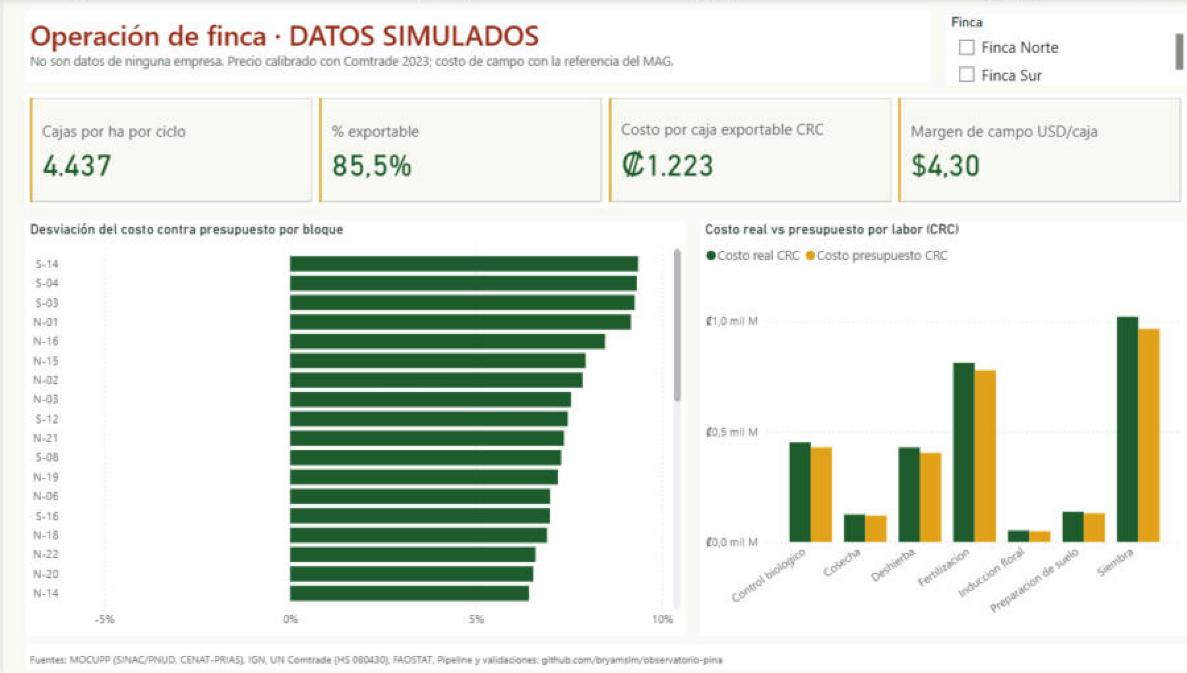

The page's visual inventory and layout, read from the dashboard file:
{"tool":"powerbi","page":{"name":"5 · Operación (simulada)","canvas":[1280,720],"ordinal":4},"visuals":[{"type":"textbox","box":[24,12,960,76],"z":1000},{"type":"slicer","title":"Finca","fields":{"Values":["Bloque.finca"]},"box":[1000,16,256,76],"z":2000},{"type":"cardVisual","fields":{"Data":["Medidas.Cajas por ha por ciclo","Medidas.% exportable","Medidas.Costo por caja exportable CRC","Medidas.Margen de campo USD/caja"]},"box":[24,100,1232,120],"z":3000},{"type":"clusteredBarChart","title":"Desviación del costo contra presupuesto por bloque","fields":{"Category":["Bloque.cod_bloque"],"Y":["Medidas.Desviación vs presupuesto %"]},"box":[24,236,700,440],"z":4000},{"type":"clusteredColumnChart","title":"Costo real vs presupuesto por labor (CRC)","fields":{"Category":["Labores.labor"],"Y":["Medidas.Costo real CRC","Medidas.Costo presupuesto CRC"]},"box":[740,236,516,440],"z":5000},{"type":"textbox","box":[24,684,1232,28],"z":9000}]}

Visuals, with their boxes in screenshot pixels (x1, y1, x2, y2), scaled from the page's 1280x720 canvas onto the 1187x673 screenshot:
textbox: [22,11,913,82]
"Finca" slicer: [927,15,1165,86]
cardVisual - Medidas.Cajas por ha por ciclo x Medidas.% exportable: [22,93,1165,206]
"Desviación del costo contra presupuesto por bloque" clusteredBarChart: [22,221,671,632]
"Costo real vs presupuesto por labor (CRC)" clusteredColumnChart: [686,221,1165,632]
textbox: [22,639,1165,666]
